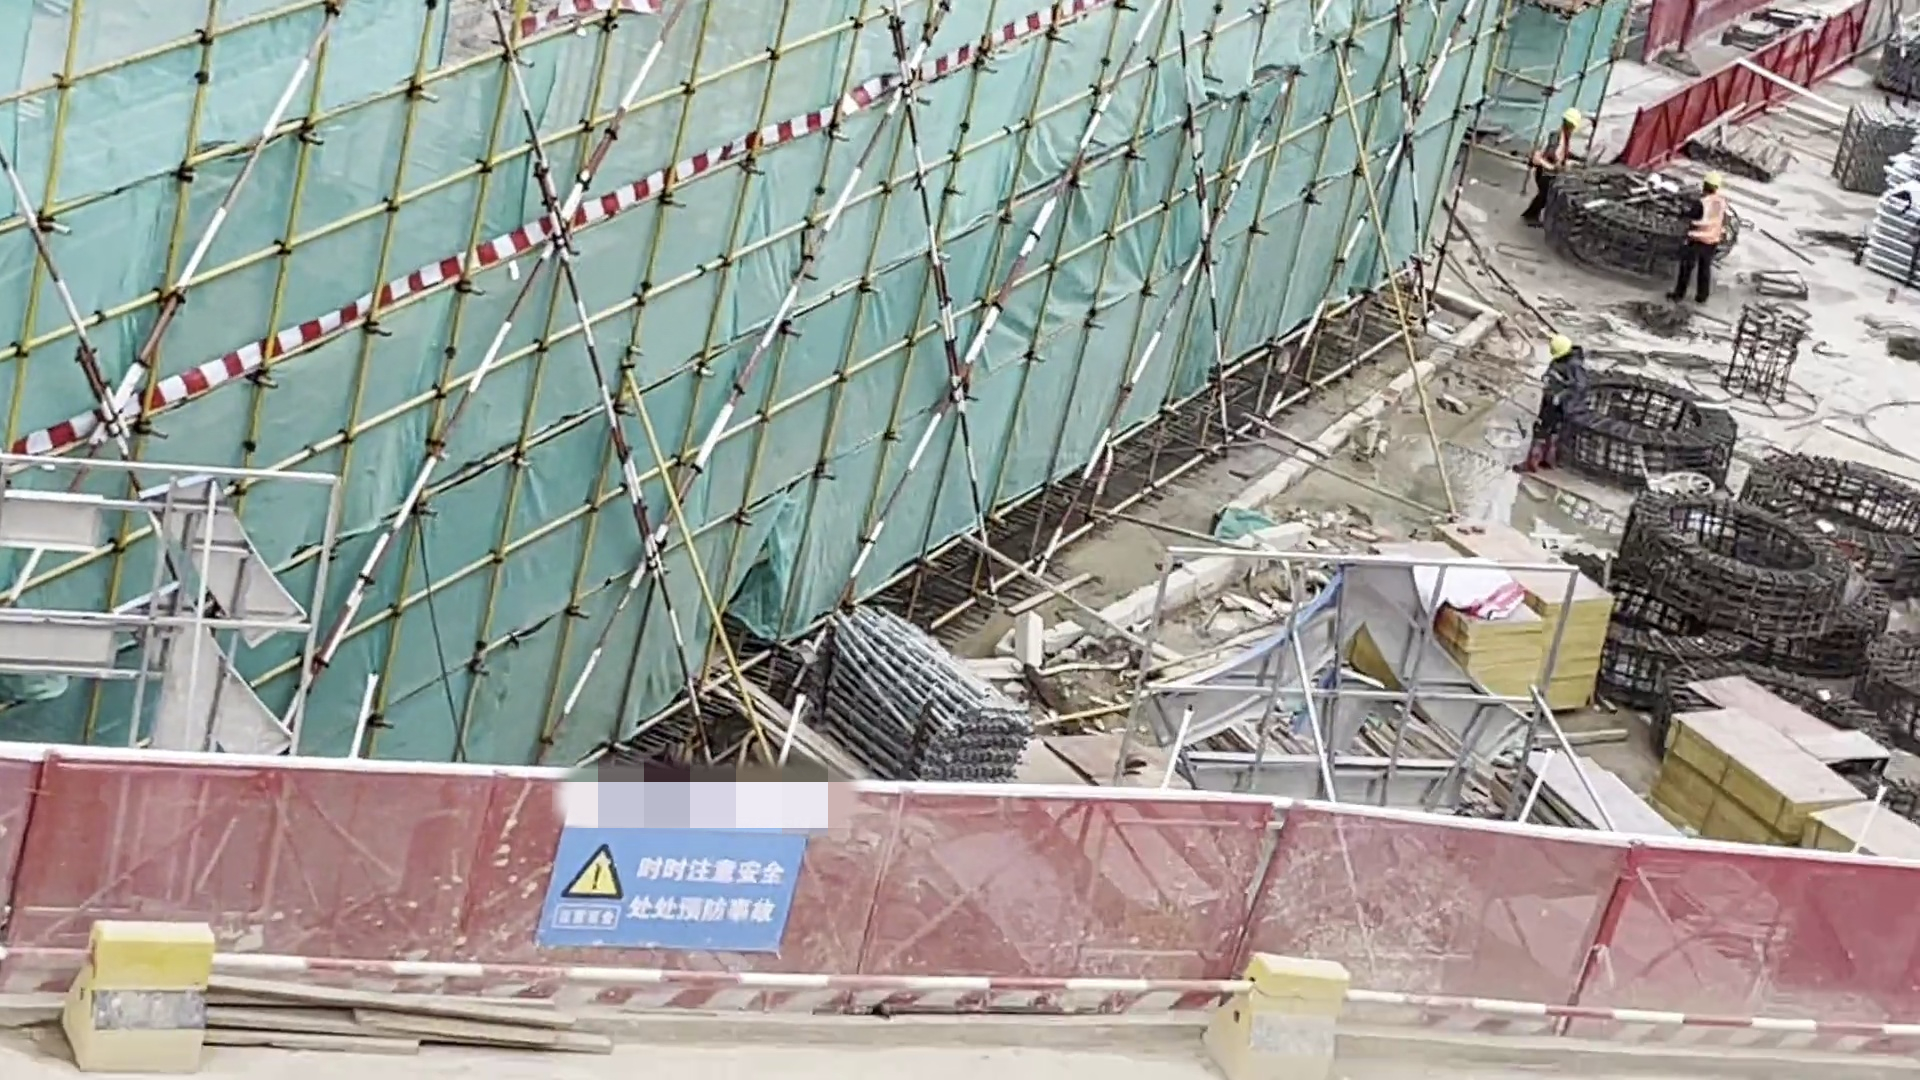board: (1329, 445, 1649, 735), (1663, 651, 1894, 857)
fence: (1, 676, 1889, 1063), (1633, 15, 1855, 186)
helmet: (1704, 169, 1735, 193), (1563, 100, 1582, 127)
person: (1659, 159, 1741, 314), (1516, 94, 1582, 239)
scaffold: (752, 584, 1048, 768), (1809, 67, 1920, 309)
slogan: (548, 758, 789, 946)
vest: (1683, 190, 1736, 248), (1524, 127, 1574, 182)
